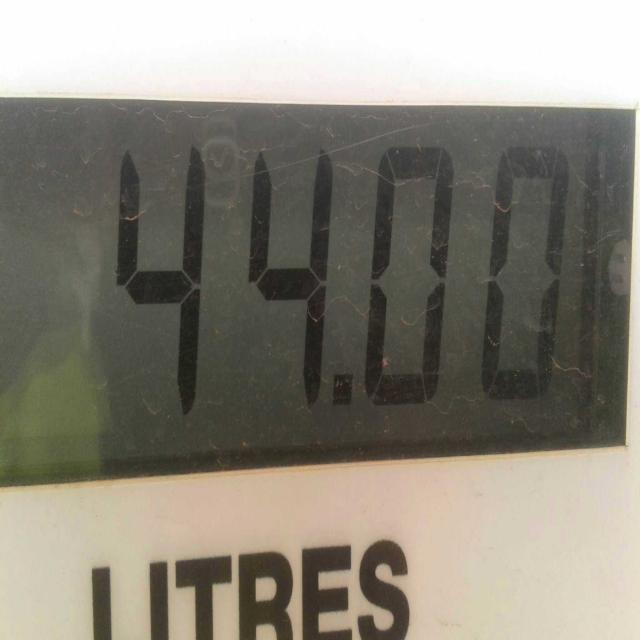.: (318, 345, 363, 436)
0: (470, 115, 576, 426), (359, 148, 460, 428)
4: (102, 123, 222, 457), (236, 129, 337, 419)
